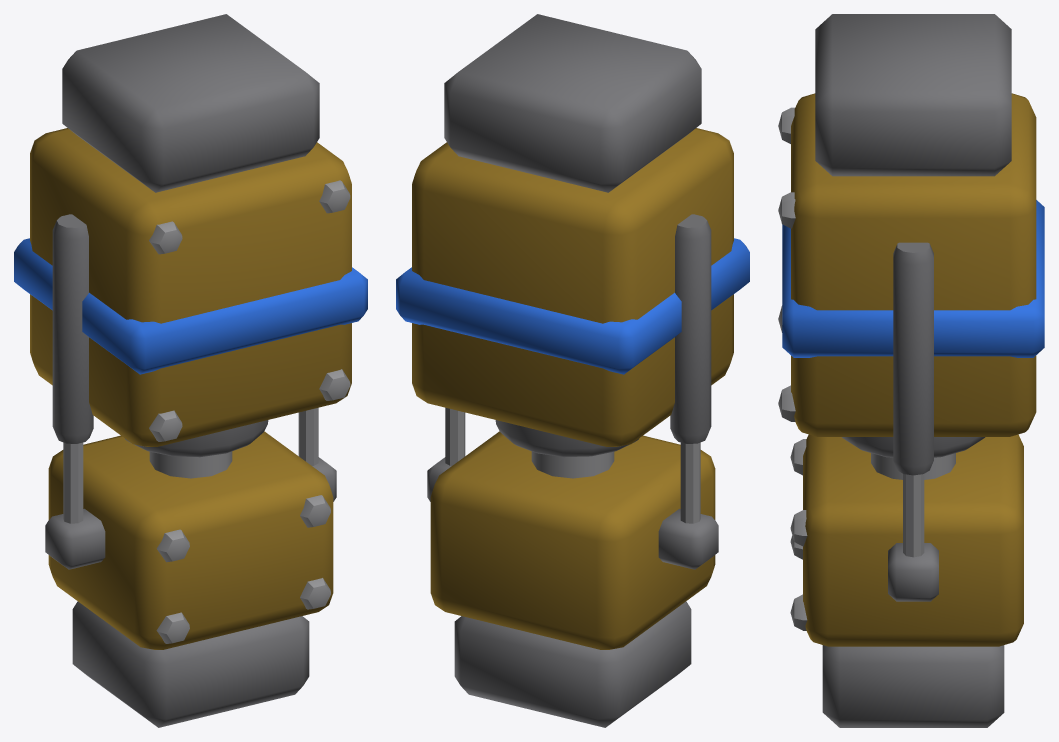
File: Kit_Limb_Robotic_S.glb
3 views of the same model, side by side, from view 1: azimuth 30°, elevation 25°; view 2: azimuth 150°, elevation 25°; view 3: azimuth 270°, elevation 25° (orthographic). The views are drawn at different scales.
Visible parts, largest first — view 1: Kit_Limb_Robotic_S; view 2: Kit_Limb_Robotic_S; view 3: Kit_Limb_Robotic_S.
Boxes of the visible parts, x1,y1,x2,y2 form: Kit_Limb_Robotic_S: [14, 14, 367, 727]; Kit_Limb_Robotic_S: [396, 14, 749, 727]; Kit_Limb_Robotic_S: [778, 14, 1044, 727].
Bounding box in the file's own units: 0.1158 × 0.2511 × 0.0945.
